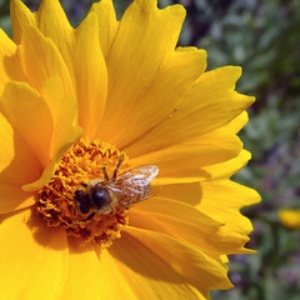bee: (74, 162, 159, 221)
